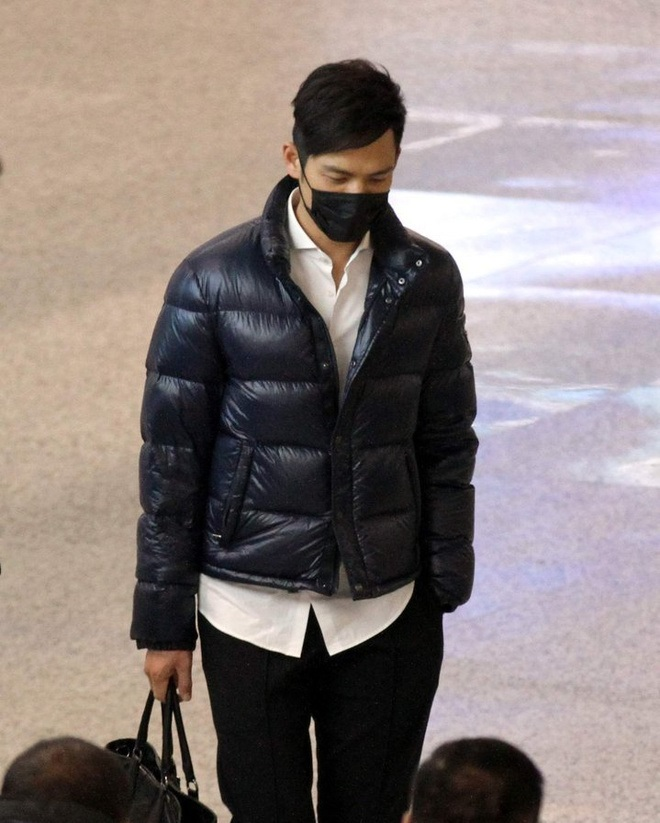face_mask: (303, 129, 395, 244)
